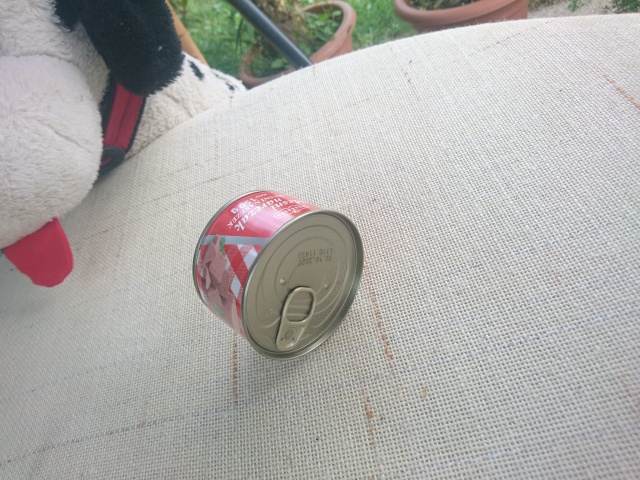Podravka Luncheon Meat 150g: (189, 187, 367, 363)
